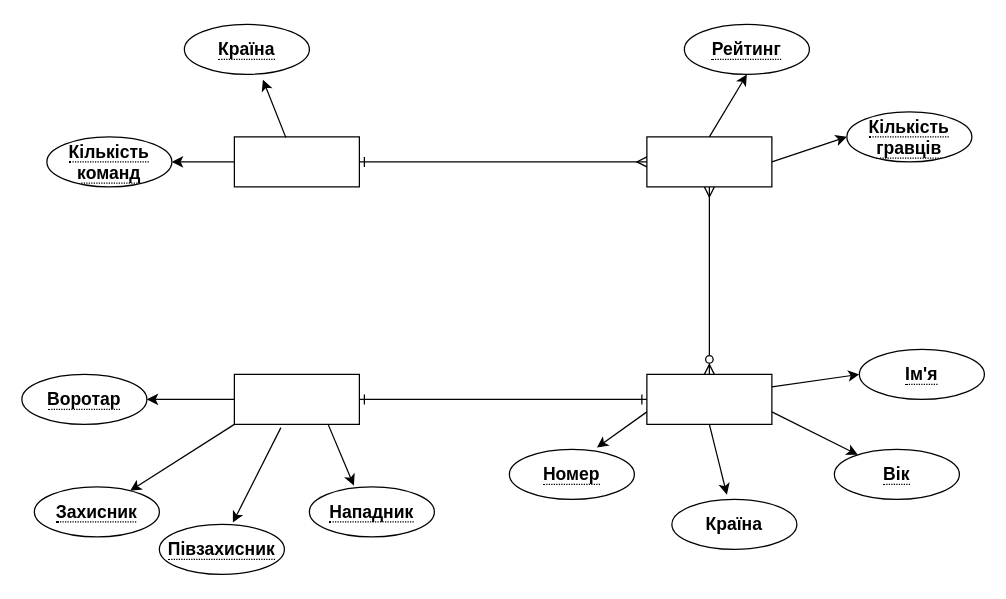
This 1006x599 diagram has some shape labels left out. The centre of each missing label's shape, as x and y in pixels:
Гравець: (709,398)
Змагання: (296,161)
Команда: (709,161)
Позиція: (296,398)
